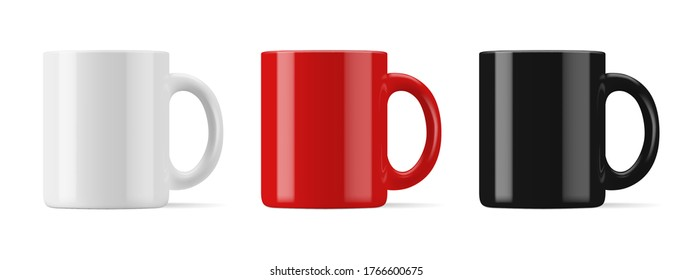cup: (36, 43, 229, 211), (259, 44, 444, 213), (477, 49, 663, 210)
